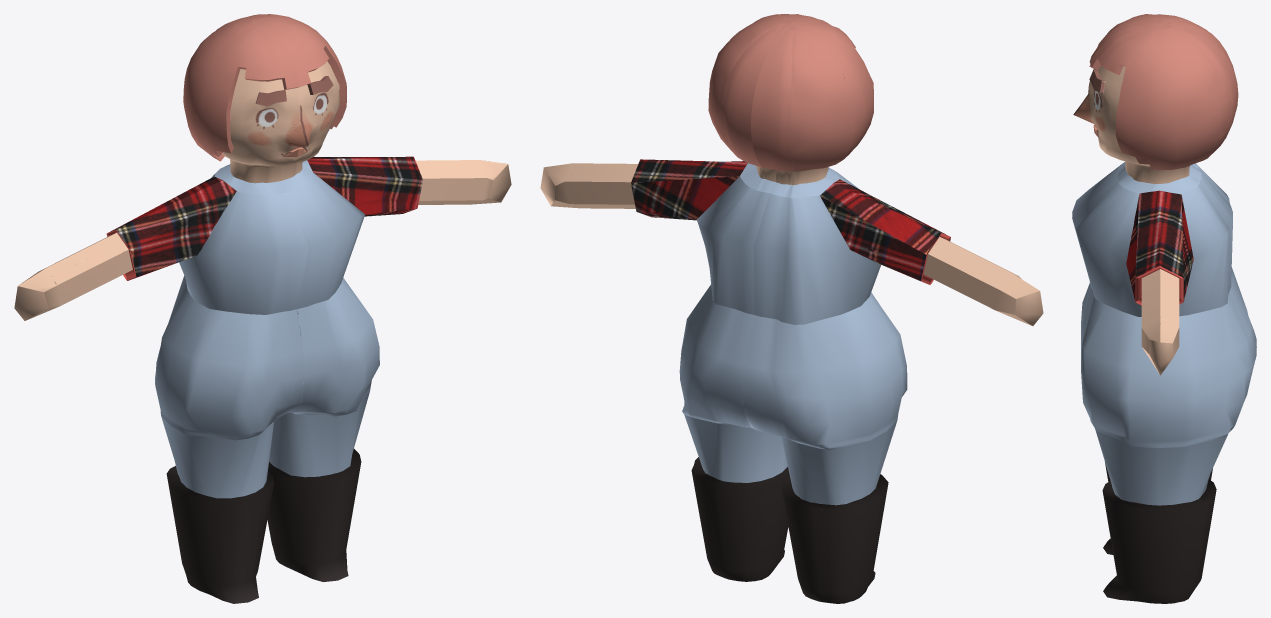
Rendered from SM_PlayerCharProgress3.fbx.
3 views of the same model, side by side, from view 1: azimuth 30°, elevation 25°; view 2: azimuth 150°, elevation 25°; view 3: azimuth 270°, elevation 25° (orthographic).
Visible parts, largest first — view 1: SM_Character2; view 2: SM_Character2; view 3: SM_Character2.
Boxes of the visible parts, x1=… form: SM_Character2: x1=14, y1=14, x2=511, y2=603; SM_Character2: x1=540, y1=14, x2=1043, y2=603; SM_Character2: x1=1072, y1=14, x2=1256, y2=603.
Bounding box in the file's own units: 7.99 × 8.42 × 2.58.
